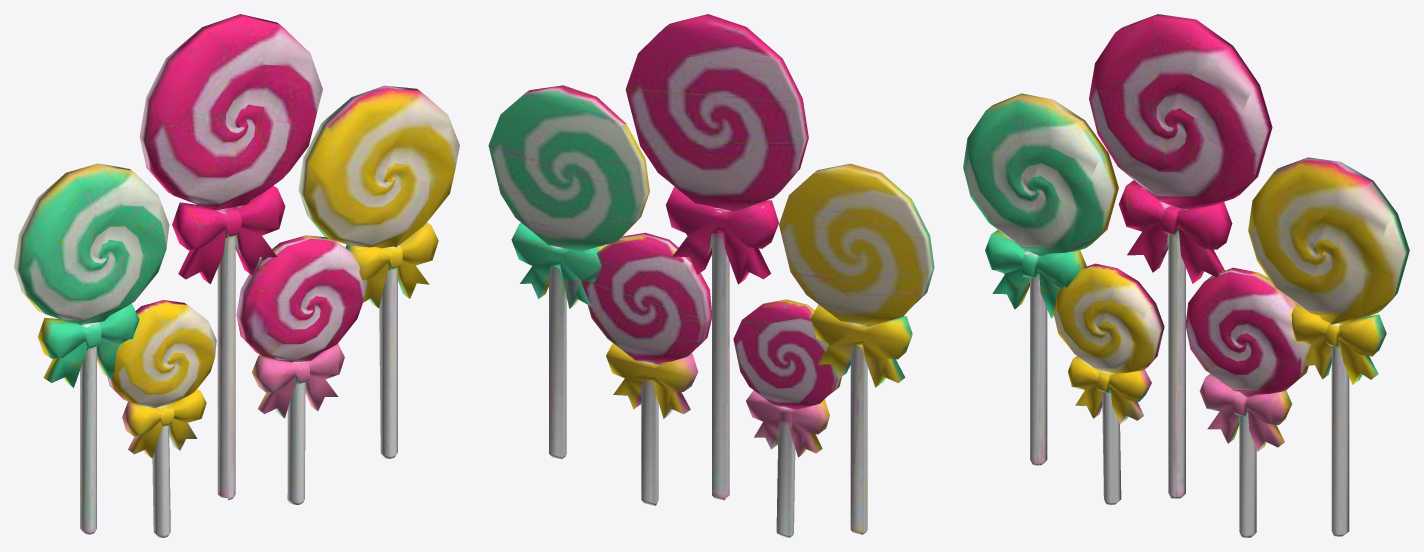
3 views of the same model, side by side, from view 1: azimuth 30°, elevation 25°; view 2: azimuth 150°, elevation 25°; view 3: azimuth 330°, elevation 25° (orthographic).
Size of the model in its own units: 0.8765 by 0.9521 by 0.0522.
1 material, 1 textured.
